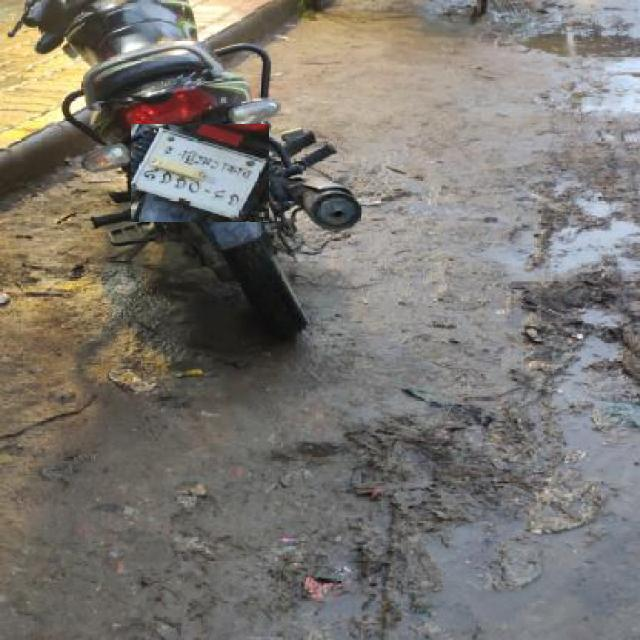numberplate: (131, 124, 269, 222)
